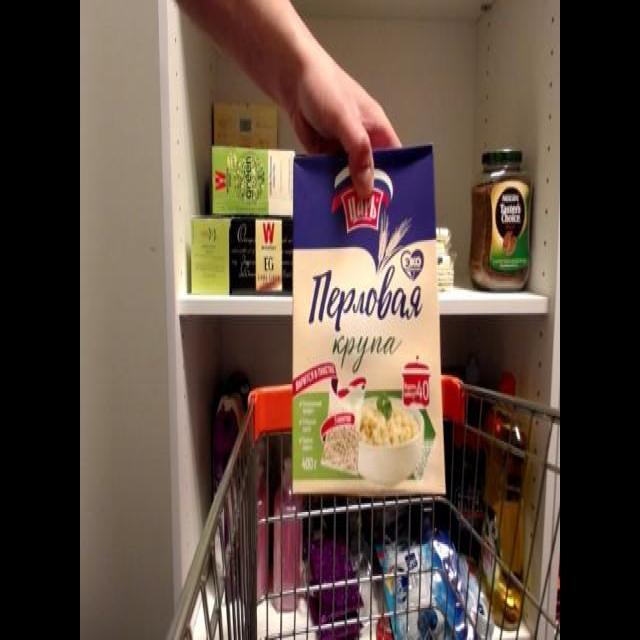Groats: (285, 133, 452, 507)
